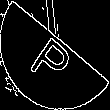P_NE: (28, 24, 82, 86)
